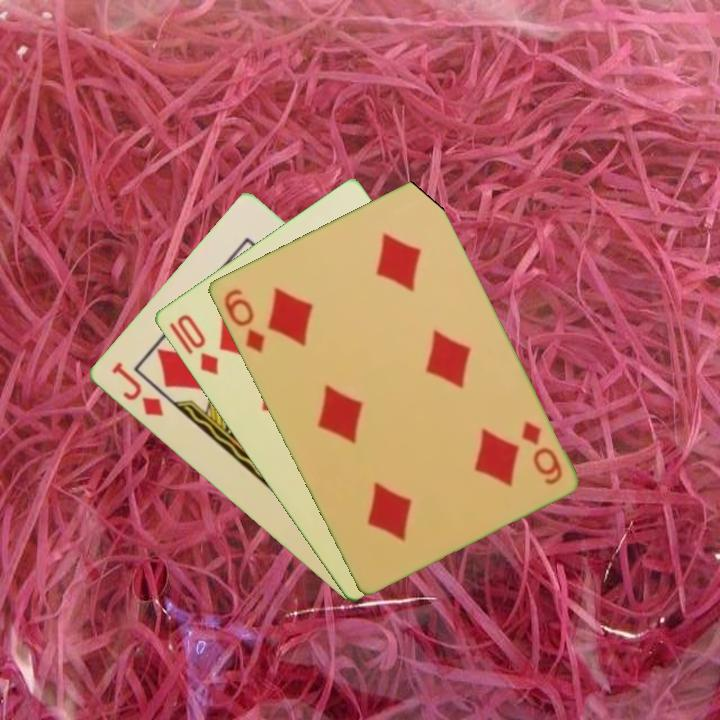10d: (164, 310, 221, 379)
6d: (220, 285, 268, 356), (517, 417, 565, 488)
Jd: (107, 358, 166, 420)
